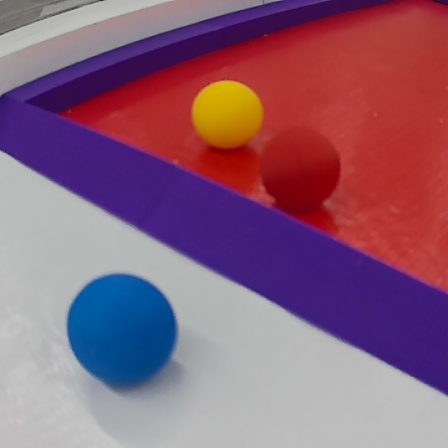blue: (61, 272, 179, 388)
red: (256, 127, 343, 217)
red_aim: (3, 3, 448, 402)
yellow: (191, 80, 264, 153)
